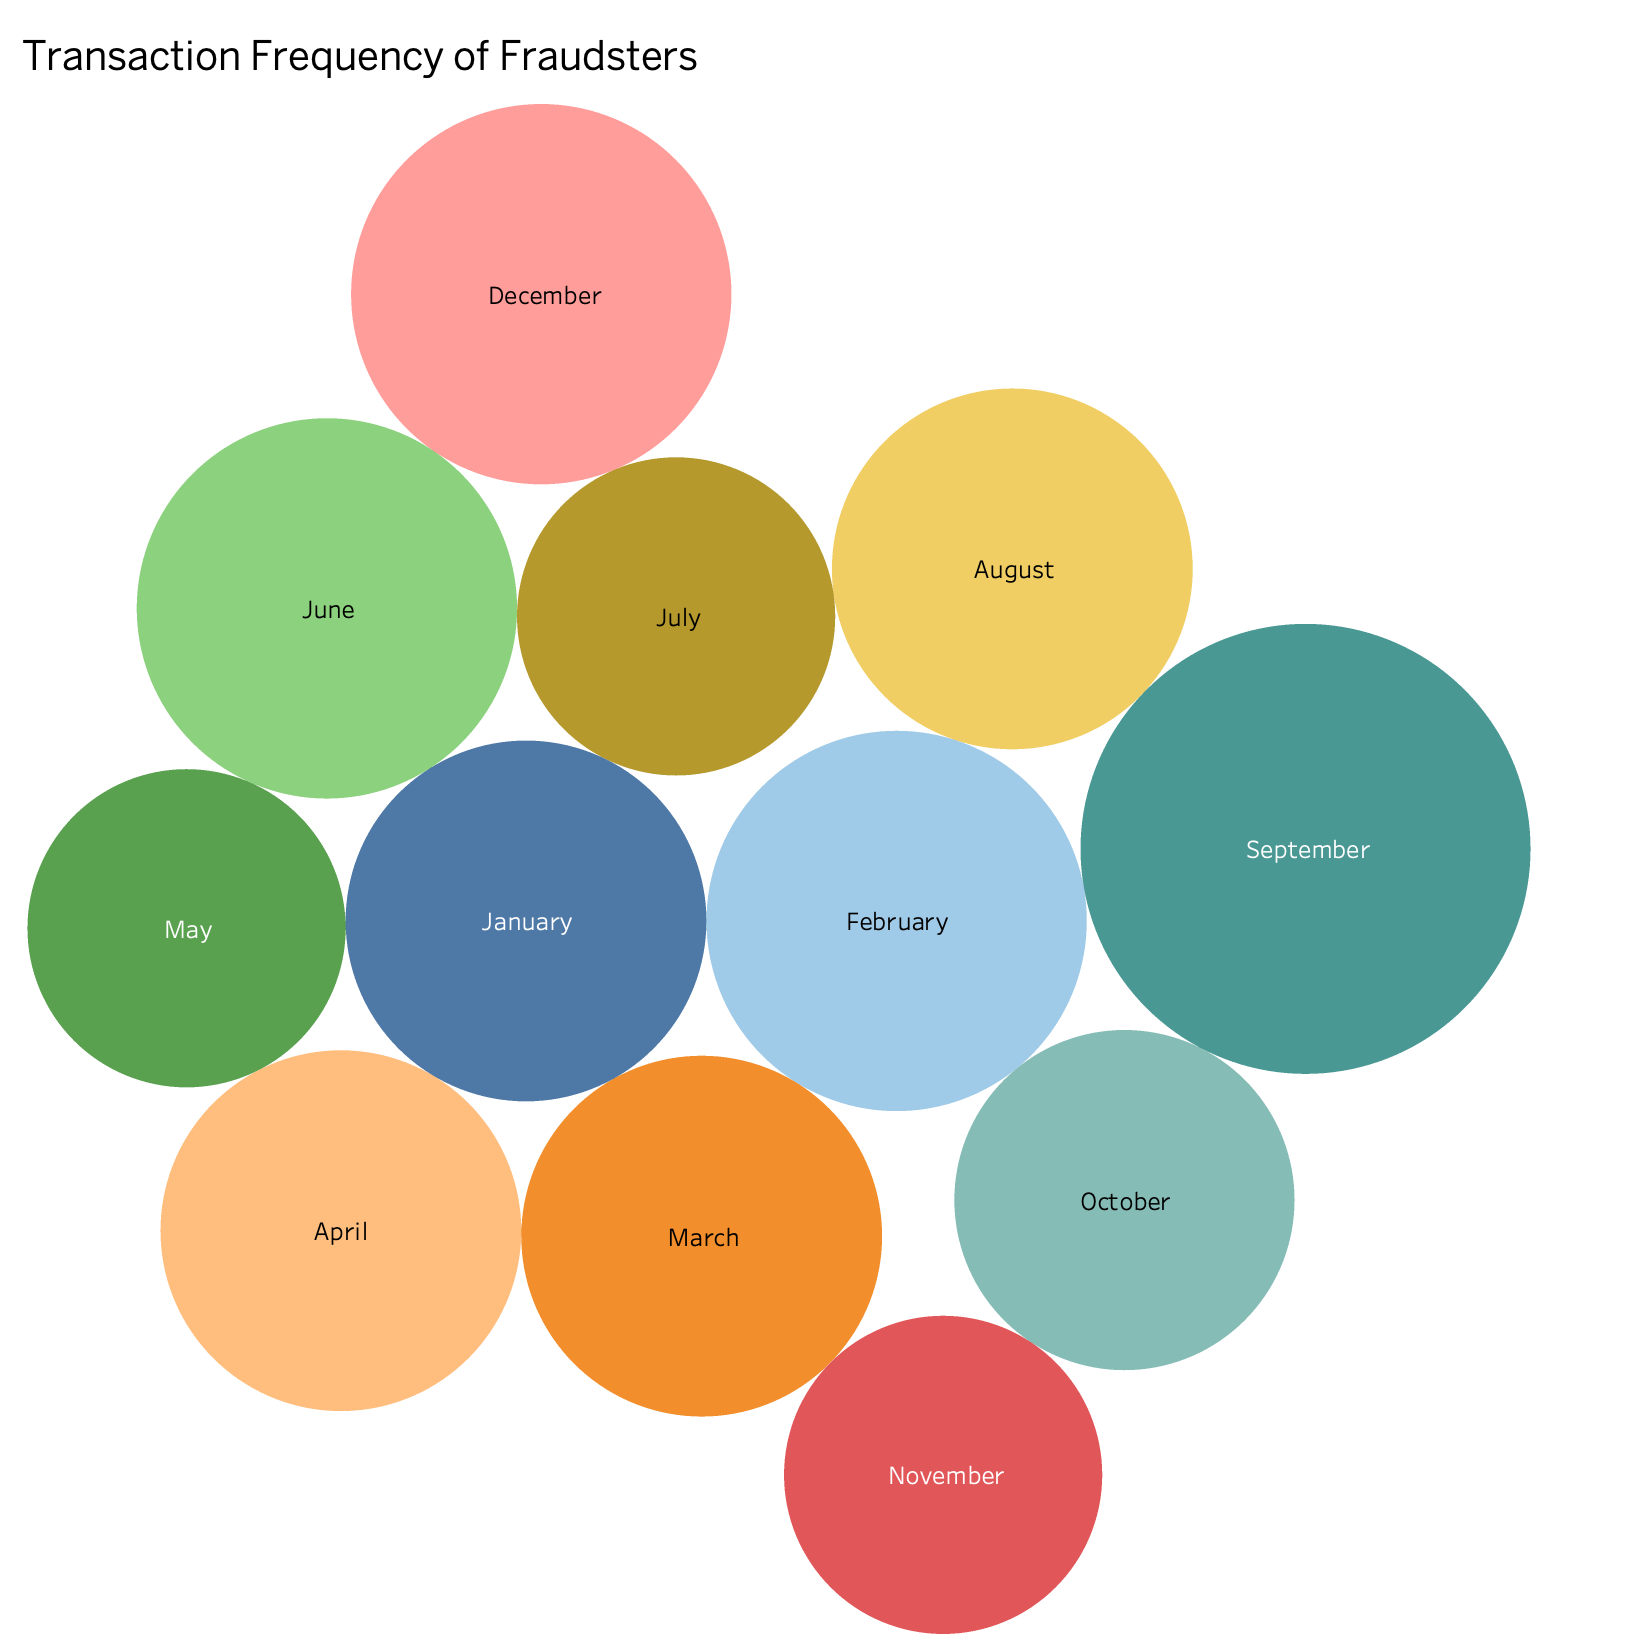

What the dashboard file says about the page in this screenshot:
{"tool":"tableau","page":{"name":"Dashboard 5","canvas":[1000,1000],"units":"permille","ordinal":2},"visuals":[{"type":"worksheet","title":"Sheet 16","mark":"Automatic","rows":["Quantity","price_unit"],"cols":["transaction_date"],"box":[6.2,9.6,987.7,980.7]}]}

Visuals, with their boxes on the dashboard's canvas, which has no fixed pixel size, in thousandths of its width and height (x1, y1, x2, y2). These are canvas units, not pixel positions in the 1648x1644 screenshot, which may show the page scaled, cropped or inside an application window:
"Sheet 16" worksheet: Rect(6, 10, 994, 990)
